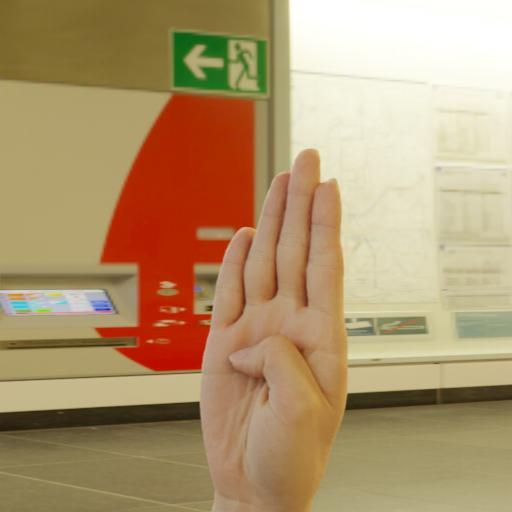B: (193, 141, 352, 512)
